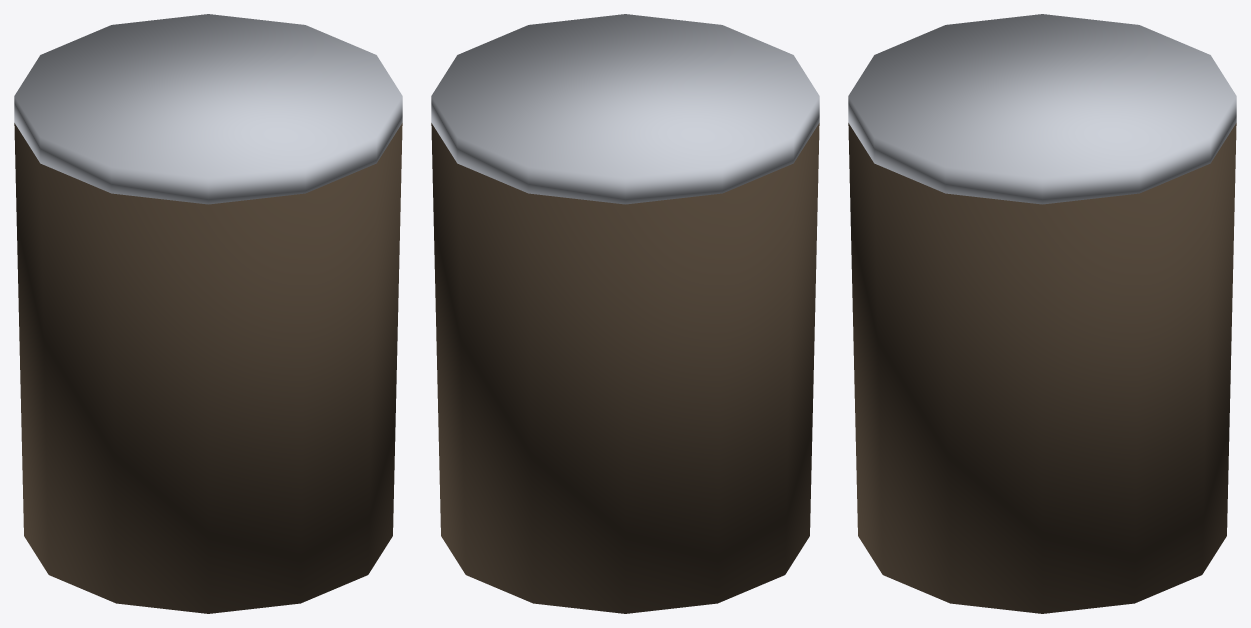
Rendered from rain_barrel.glb.
3 views of the same model, side by side, from view 1: azimuth 30°, elevation 25°; view 2: azimuth 150°, elevation 25°; view 3: azimuth 270°, elevation 25° (orthographic).
Parts seen in each view (by area): view 1: rain_barrel; view 2: rain_barrel; view 3: rain_barrel.
Part boxes in pixels (box(x1,y1,x2,y2)): rain_barrel: box(14, 14, 402, 613); rain_barrel: box(431, 14, 819, 613); rain_barrel: box(848, 14, 1236, 613).
Bounding box in the file's own units: 0.8 × 1 × 0.8.
